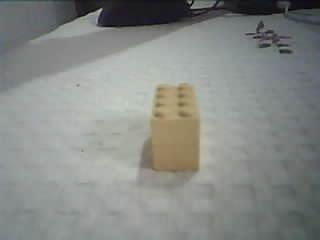lego: (147, 81, 201, 174)
